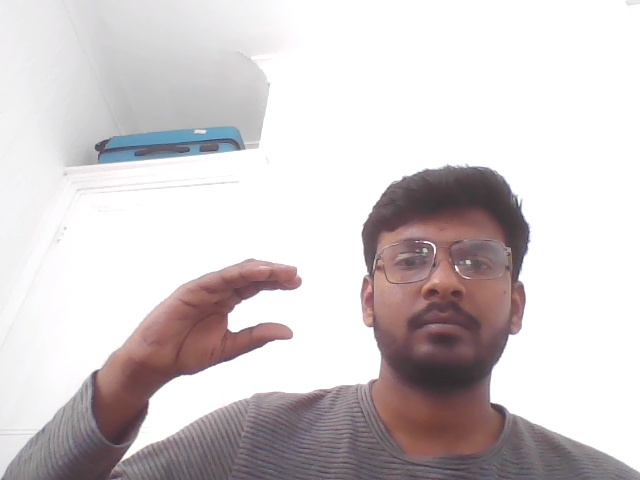No: (87, 223, 335, 433)
